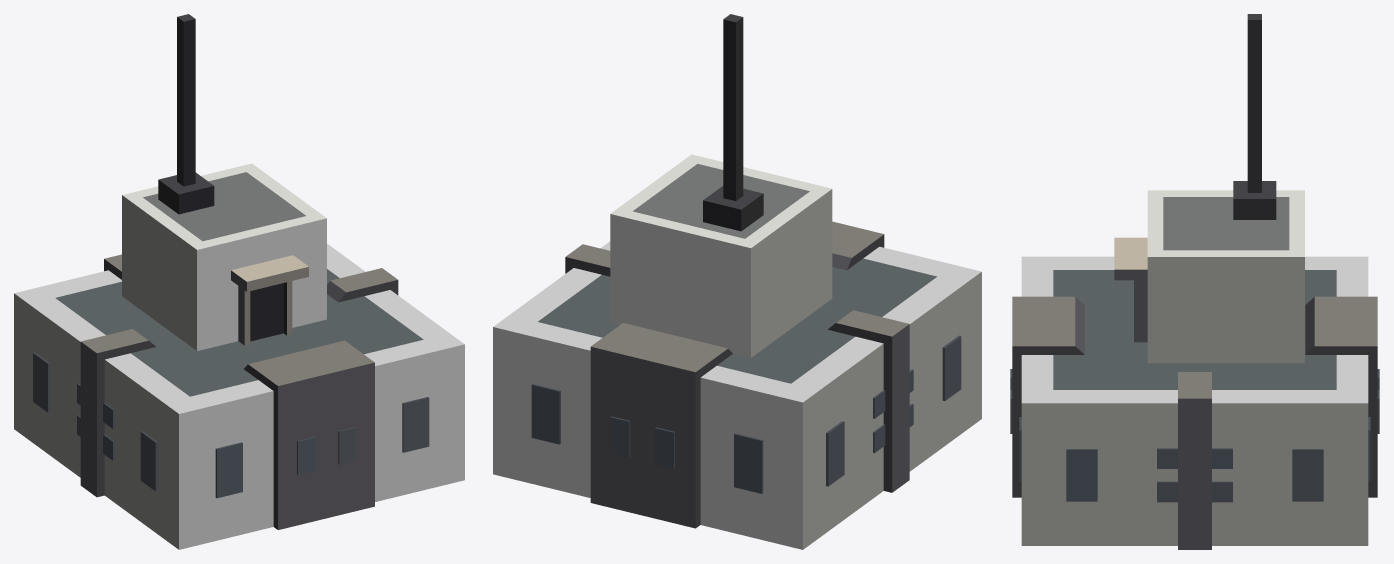
The model's file is TB_CITY_Skysc_Q_Top_Gray.FBX.
3 views of the same model, side by side, from view 1: azimuth 30°, elevation 25°; view 2: azimuth 150°, elevation 25°; view 3: azimuth 270°, elevation 25° (orthographic). The views are drawn at different scales.
Visible parts, largest first — view 1: TB_CITY_Skysc_Q_Top_Gray; view 2: TB_CITY_Skysc_Q_Top_Gray; view 3: TB_CITY_Skysc_Q_Top_Gray.
Part boxes in pixels (left/top/right/bottom): TB_CITY_Skysc_Q_Top_Gray: left=14, top=14, right=464, bottom=549; TB_CITY_Skysc_Q_Top_Gray: left=493, top=14, right=981, bottom=549; TB_CITY_Skysc_Q_Top_Gray: left=1010, top=14, right=1379, bottom=549.
Bounding box in the file's own units: 11.6 × 15.52 × 11.73.
